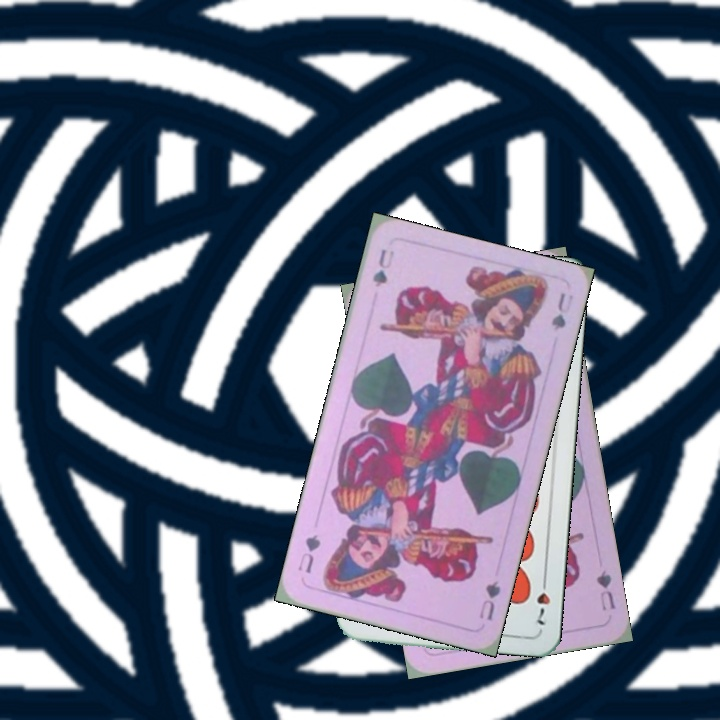GU: (475, 577, 504, 623), (368, 244, 397, 290), (592, 566, 618, 613)
H7: (532, 571, 553, 628)
